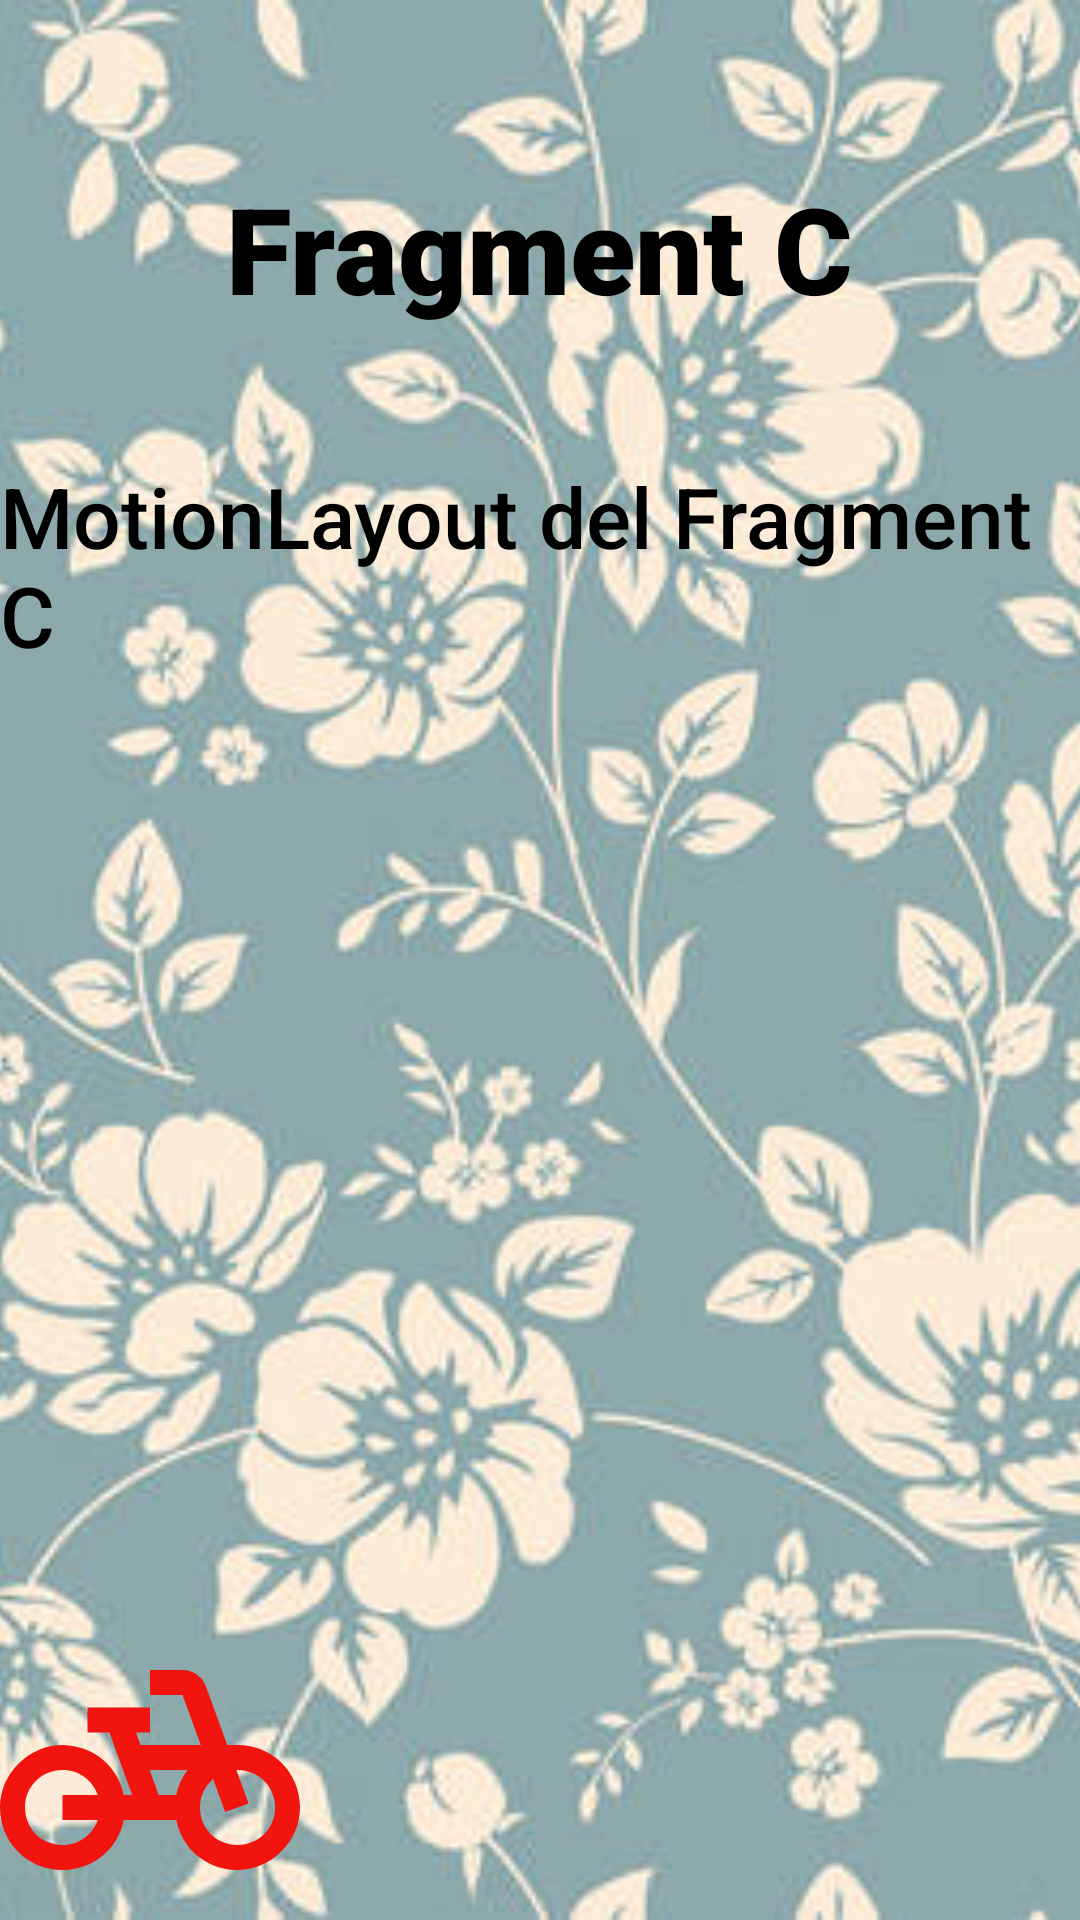

Icon click points for this 1080*1920 phone screenshot, format point (x, y):
pedal bike: point (150, 1770)
